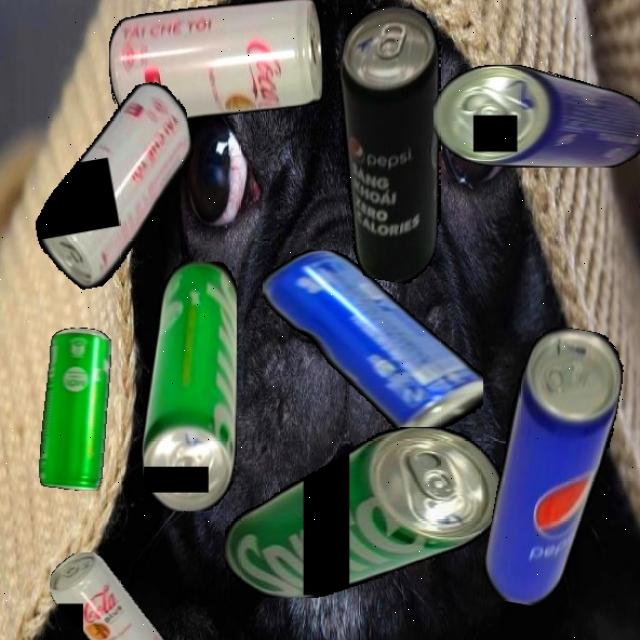debris: (305, 0, 474, 288), (224, 427, 502, 598), (479, 321, 629, 614), (15, 78, 213, 295), (263, 249, 483, 428), (108, 0, 324, 123), (140, 260, 237, 512), (433, 63, 640, 167), (38, 328, 111, 490), (48, 552, 168, 640)
